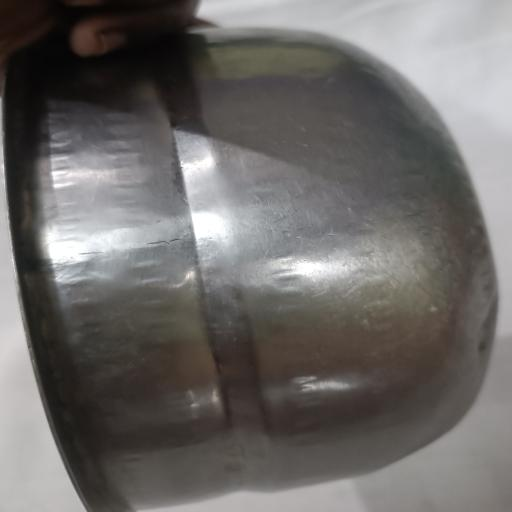vessel: (4, 29, 496, 512)
